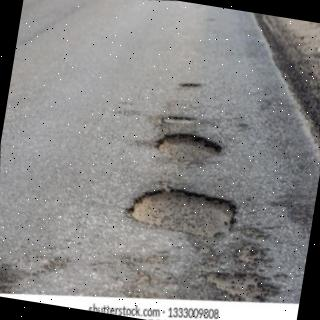pothole: (125, 188, 237, 240), (154, 134, 221, 164)
